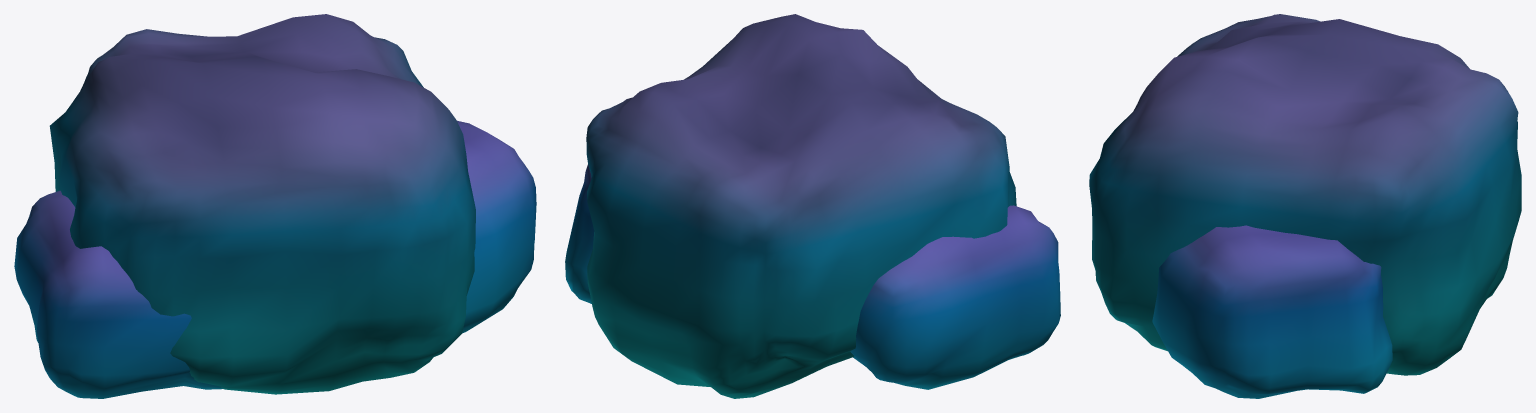
The model's file is coral_boulder_c.glb.
3 renders of one model, left to right at view 1: azimuth 30°, elevation 25°; view 2: azimuth 150°, elevation 25°; view 3: azimuth 270°, elevation 25°, orthographic. The views are drawn at different scales.
Visible parts, largest first — view 1: coral_boulder_c; view 2: coral_boulder_c; view 3: coral_boulder_c.
Part boxes in pixels (x1,y1,x2,y2): coral_boulder_c: (14,14,536,398); coral_boulder_c: (565,14,1060,398); coral_boulder_c: (1089,14,1521,398).
Size of what is drawn, in the model's own units: 3.88 by 2.29 by 3.15.
